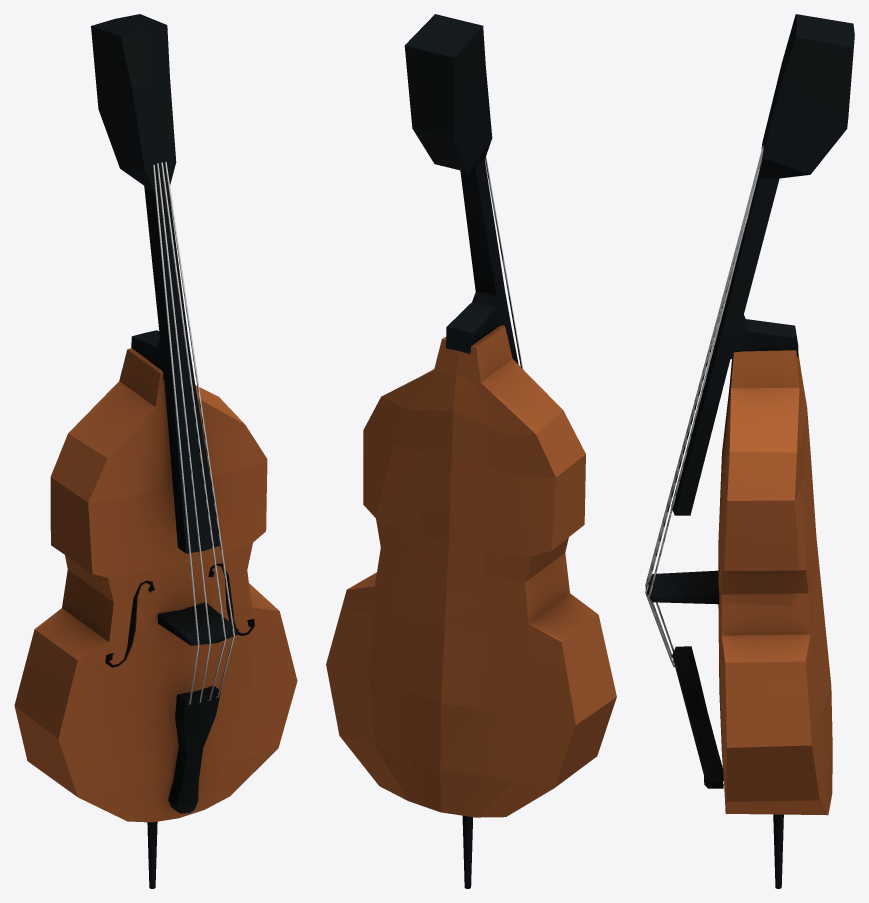
Rendered from violin.glb.
The picture shows the model from 3 angles, left to right: view 1: azimuth 30°, elevation 25°; view 2: azimuth 150°, elevation 25°; view 3: azimuth 270°, elevation 25°; orthographic projection. The views are drawn at different scales.
Visible parts, largest first — view 1: Cube_Hollow; view 2: Cube_Hollow; view 3: Cube_Hollow.
Part boxes in pixels (left/top/right/bottom): Cube_Hollow: left=14, top=14, right=297, bottom=888; Cube_Hollow: left=326, top=14, right=616, bottom=888; Cube_Hollow: left=645, top=14, right=854, bottom=888.
Bounding box in the file's own units: 2.93 × 9.8 × 2.16.
1 material, 1 textured.
